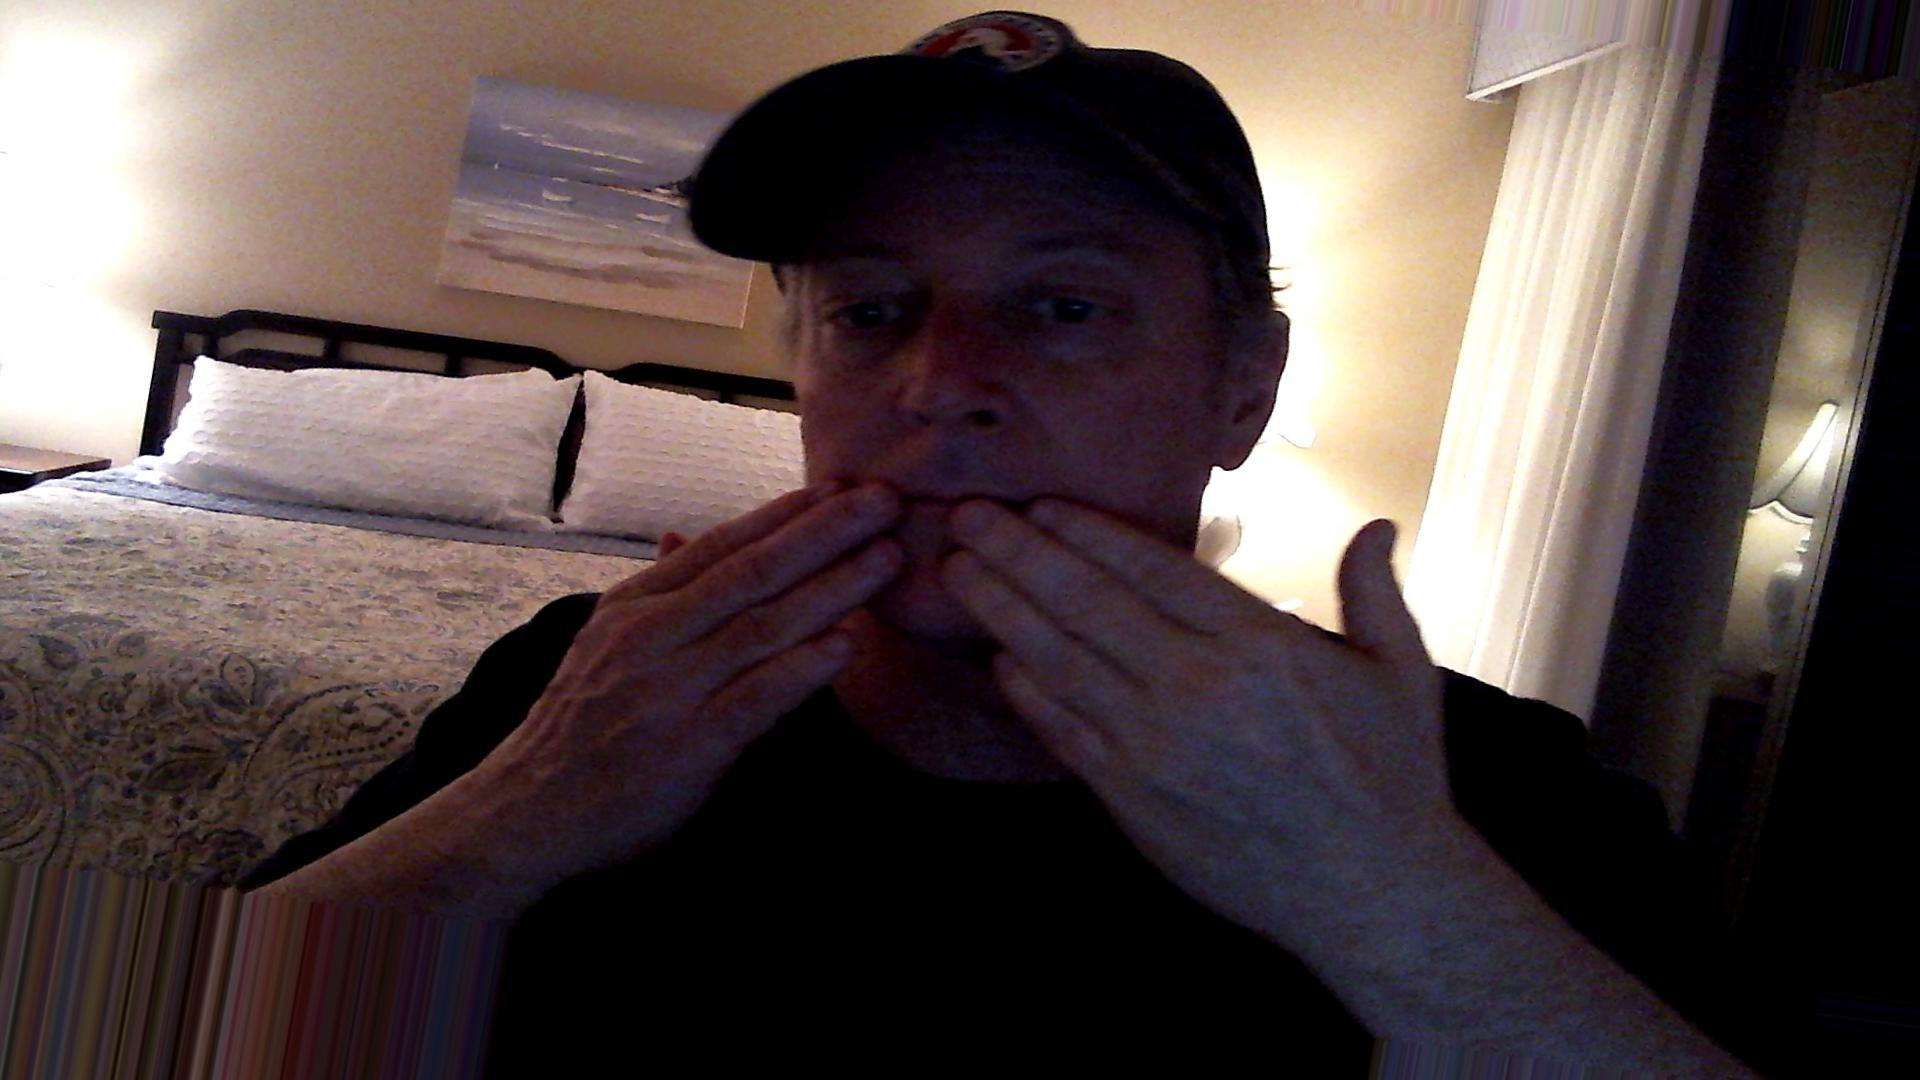Thank You: (560, 440, 1493, 909)
